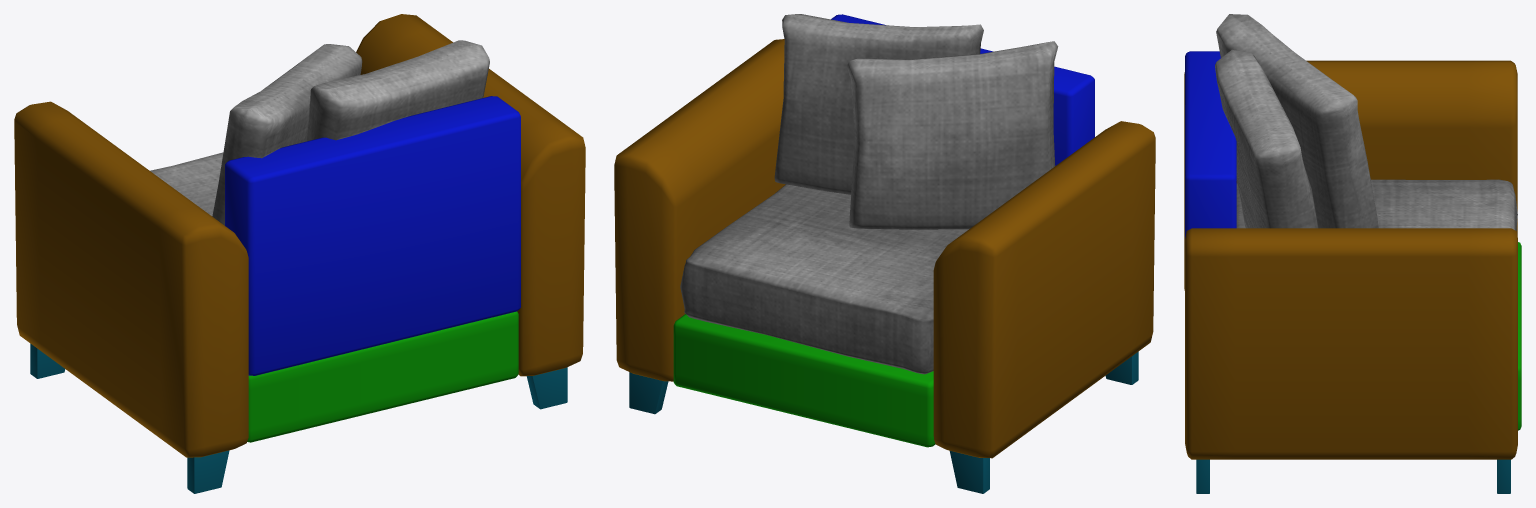
The model's file is Sofa 1.FBX.
3 renders of one model, left to right at view 1: azimuth 30°, elevation 25°; view 2: azimuth 150°, elevation 25°; view 3: azimuth 270°, elevation 25°, orthographic. The views are drawn at different scales.
Visible parts, largest first — view 1: Sofa 1; view 2: Sofa 1; view 3: Sofa 1.
Boxes of the visible parts, x1=… form: Sofa 1: x1=14, y1=14, x2=585, y2=493; Sofa 1: x1=614, y1=14, x2=1155, y2=493; Sofa 1: x1=1184, y1=14, x2=1521, y2=493.
Size of the model in its own units: 1.46 by 1.1 by 1.22.
